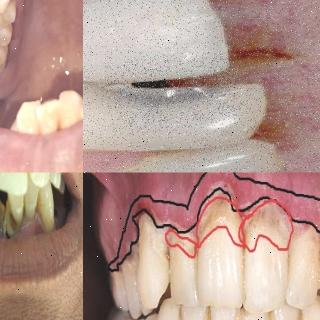Gum Swelling: (108, 172, 320, 271), (21, 212, 46, 241)
calculus: (240, 202, 292, 304), (198, 188, 243, 304), (138, 204, 168, 301), (167, 224, 198, 304), (290, 228, 320, 300), (119, 236, 137, 314), (3, 205, 19, 242), (177, 302, 209, 320), (8, 0, 21, 16)
cavities: (107, 37, 209, 131)
maligned: (135, 198, 171, 312), (17, 91, 41, 135), (56, 88, 82, 128), (36, 98, 62, 130)
